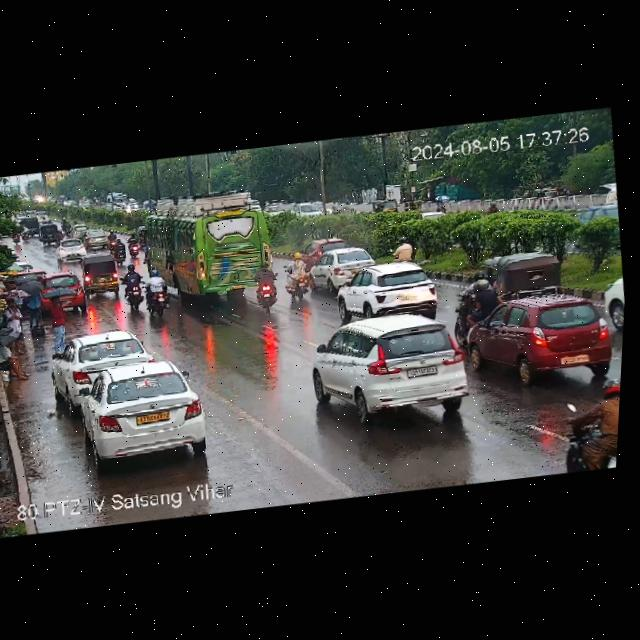bus: (126, 181, 280, 306)
car: (304, 306, 478, 427), (459, 284, 625, 393), (73, 355, 210, 464), (329, 258, 449, 327), (49, 326, 152, 397), (487, 248, 567, 303), (303, 243, 381, 291), (37, 271, 89, 310), (79, 253, 126, 296), (598, 270, 626, 327), (54, 238, 89, 262), (81, 229, 114, 250), (372, 195, 399, 215), (38, 221, 59, 244), (72, 221, 89, 236)
motorcycle: (552, 374, 621, 472), (448, 266, 500, 339), (281, 248, 316, 303), (249, 260, 285, 311), (142, 267, 175, 317), (116, 264, 147, 312), (390, 231, 420, 260), (107, 230, 129, 263), (12, 225, 29, 242), (127, 232, 139, 255), (59, 216, 72, 235), (485, 198, 500, 213), (56, 229, 65, 242)
person: (0, 332, 33, 384), (47, 292, 72, 350), (1, 296, 24, 330), (24, 292, 42, 328), (3, 280, 17, 290)
